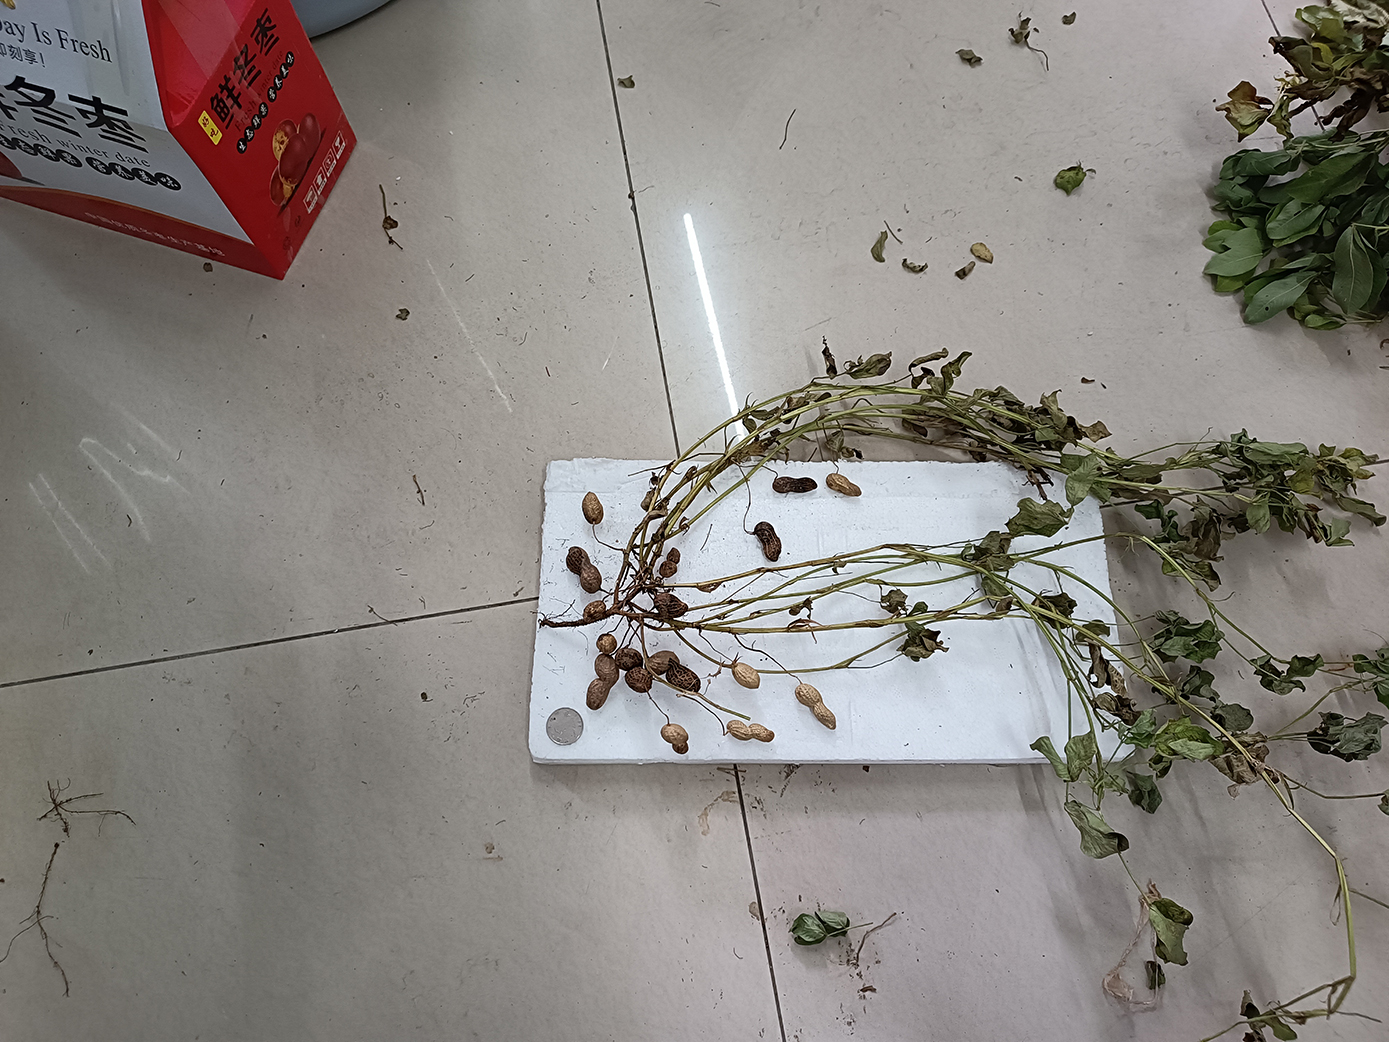h: (794, 683, 836, 730), (586, 653, 620, 710), (726, 719, 775, 743), (660, 723, 688, 755), (826, 473, 863, 497), (581, 491, 604, 525), (731, 663, 760, 690), (597, 633, 617, 655)
l: (648, 650, 701, 693), (565, 546, 602, 594), (615, 648, 653, 692), (754, 521, 782, 563), (653, 593, 688, 618), (772, 476, 818, 494), (659, 547, 681, 578), (582, 600, 606, 621)
